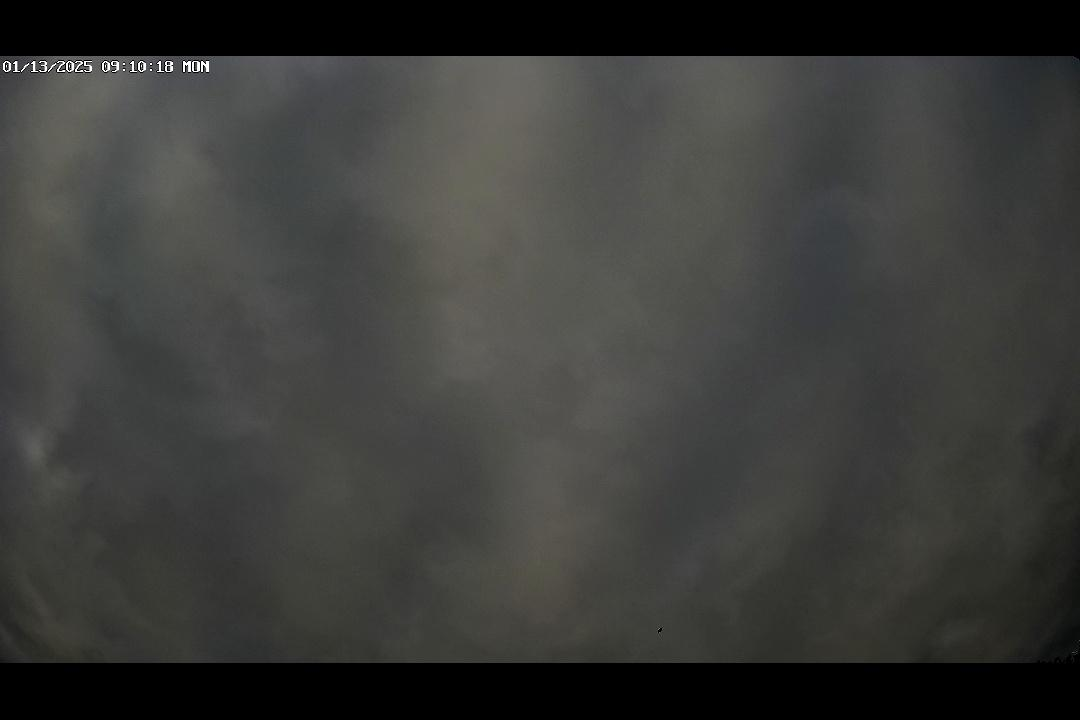WildLife: (646, 623, 676, 636)
